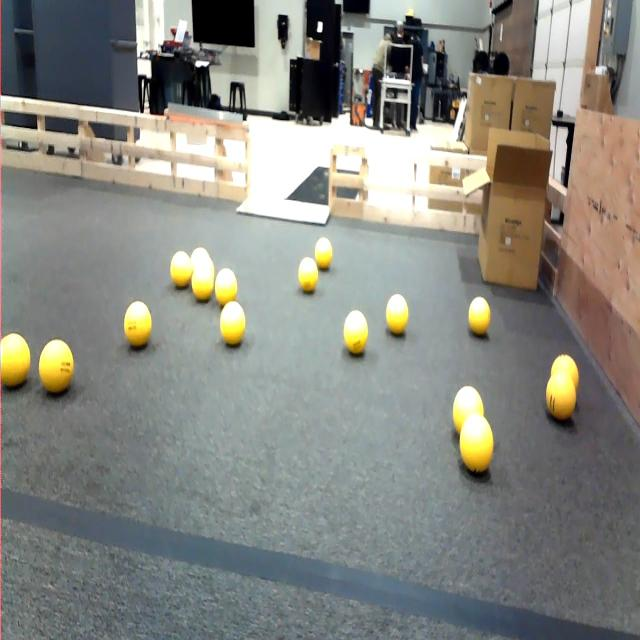fuel: (456, 408, 504, 487), (34, 333, 84, 401), (539, 366, 581, 434), (0, 326, 34, 404), (452, 377, 488, 439), (165, 228, 194, 302), (463, 285, 494, 352), (120, 302, 161, 352), (550, 347, 590, 392), (340, 305, 372, 359), (189, 253, 217, 309), (217, 296, 244, 348), (383, 286, 407, 337), (311, 230, 339, 270), (294, 249, 318, 295), (216, 263, 240, 307)
